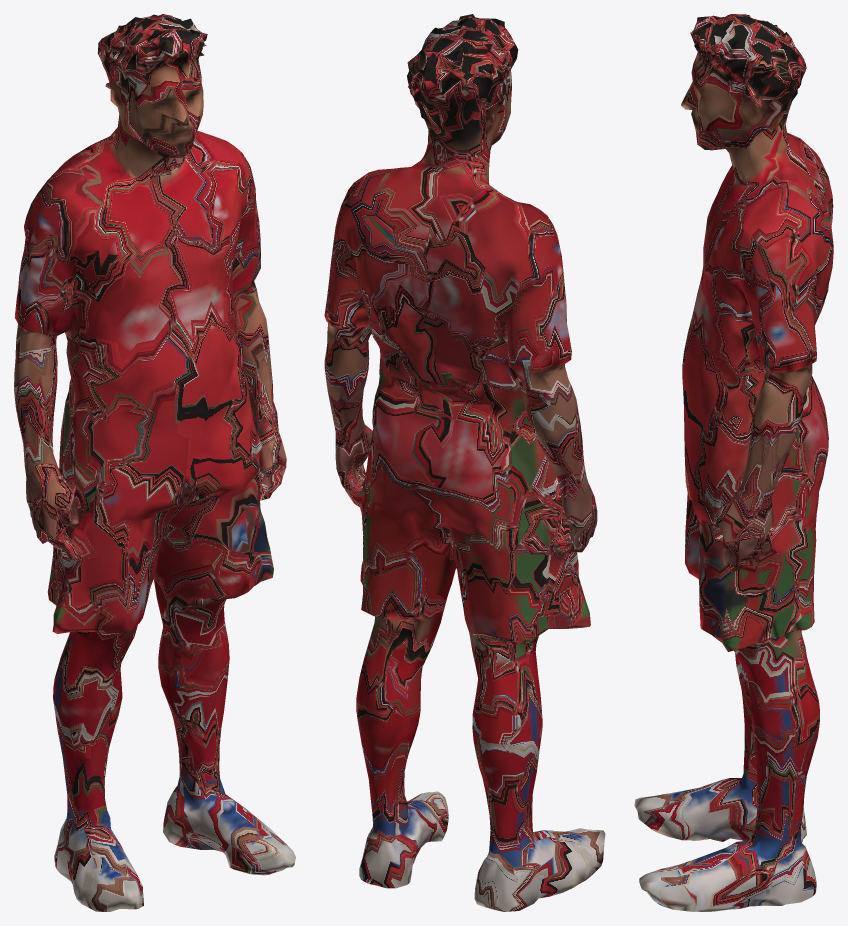
File: red_footballer.glb
3 views of the same model, side by side, from view 1: azimuth 30°, elevation 25°; view 2: azimuth 150°, elevation 25°; view 3: azimuth 270°, elevation 25° (orthographic).
Visible parts, largest first — view 1: body; view 2: body; view 3: body.
Boxes of the visible parts, bbox=[...] form: body: bbox=[14, 14, 295, 911]; body: bbox=[324, 14, 605, 911]; body: bbox=[634, 14, 833, 911].
Bounding box in the file's own units: 0.5648 × 1.84 × 0.3909.
1 material, 1 textured.
